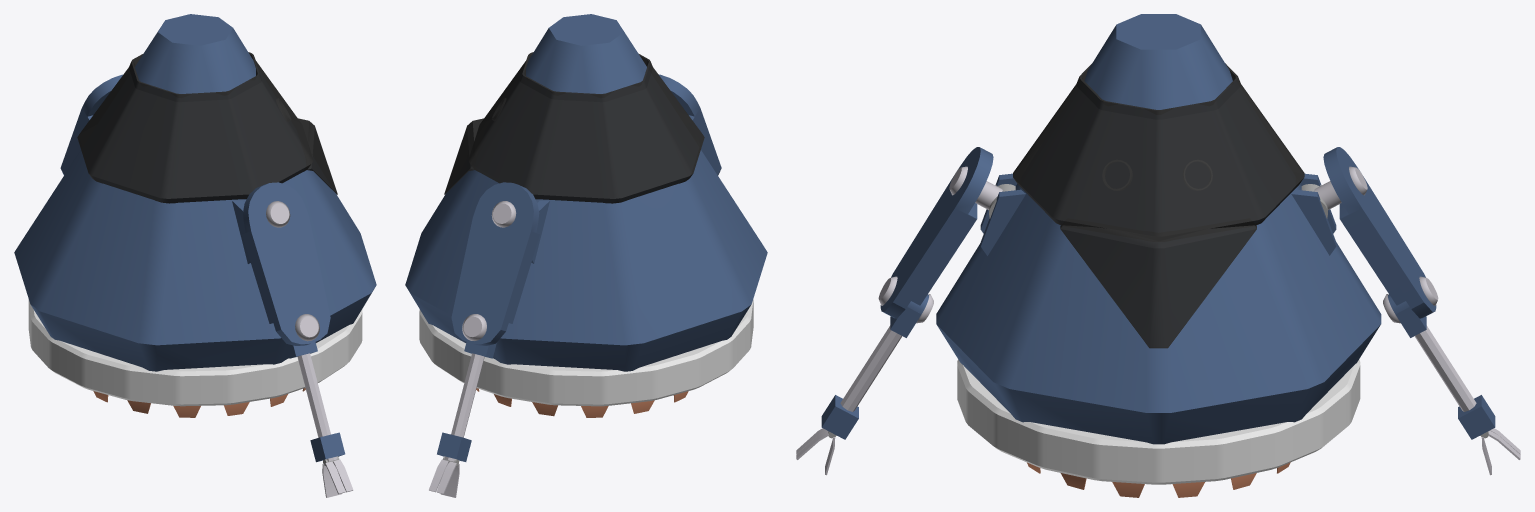
The model's file is robot.fbx.
3 renders of one model, left to right at view 1: azimuth 30°, elevation 25°; view 2: azimuth 150°, elevation 25°; view 3: azimuth 270°, elevation 25°, orthographic. The views are drawn at different scales.
Visible parts, largest first — view 1: polySurface1; view 2: polySurface1; view 3: polySurface1.
Boxes of the visible parts, bbox=[...] form: polySurface1: bbox=[14, 14, 376, 497]; polySurface1: bbox=[405, 14, 767, 497]; polySurface1: bbox=[796, 14, 1520, 497].
Size of the model in its own units: 191 by 208 by 311.
